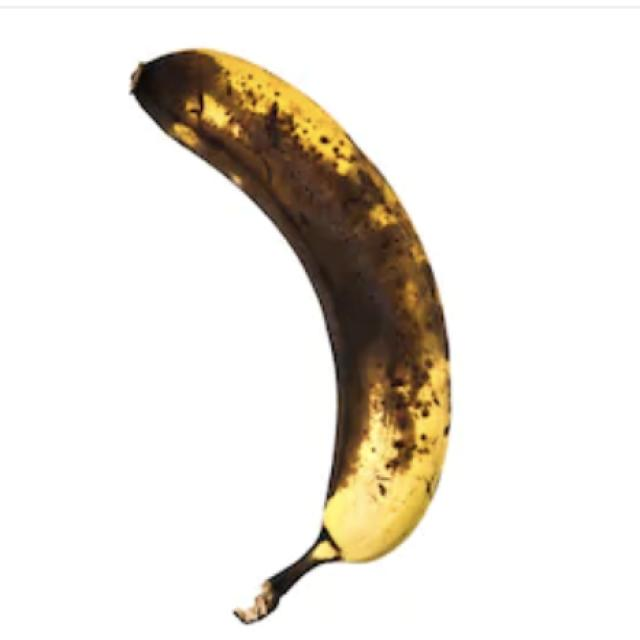rotten-banana: (127, 45, 453, 624)
